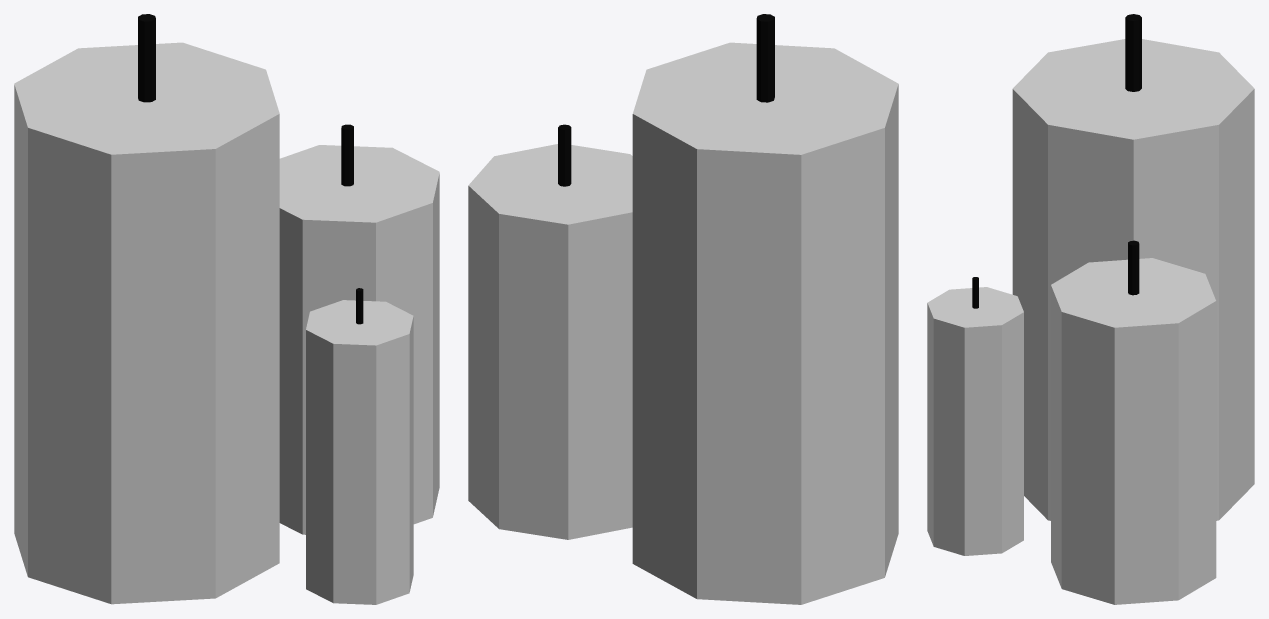
Rendered from candles.obj.
3 views of the same model, side by side, from view 1: azimuth 30°, elevation 25°; view 2: azimuth 150°, elevation 25°; view 3: azimuth 270°, elevation 25° (orthographic). The views are drawn at different scales.
Parts seen in each view (by area): view 1: candles; view 2: candles; view 3: candles.
Part boxes in pixels (x1,y1,x2,y2): candles: [14, 14, 439, 604]; candles: [468, 14, 898, 604]; candles: [927, 14, 1254, 604].
Size of the model in its own units: 0.1033 by 0.1305 by 0.0829.
